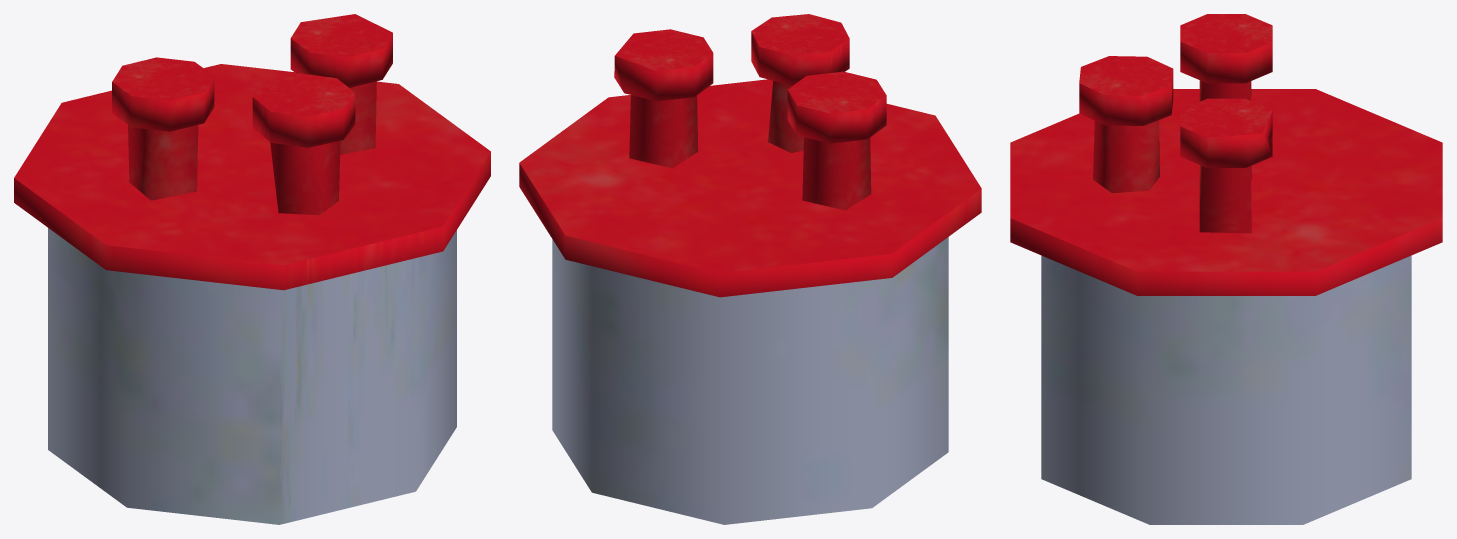
File: refuel-area-tank-top-cbj_LOD02.gltf
3 renders of one model, left to right at view 1: azimuth 30°, elevation 25°; view 2: azimuth 150°, elevation 25°; view 3: azimuth 270°, elevation 25°, orthographic. The views are drawn at different scales.
Visible parts, largest first — view 1: Cube02; view 2: Cube02; view 3: Cube02.
Boxes of the visible parts, x1,y1,x2,y2 form: Cube02: (14,14,490,524); Cube02: (519,14,981,524); Cube02: (1010,14,1442,524).
Bounding box in the file's own units: 1.29 × 1.23 × 1.29.
